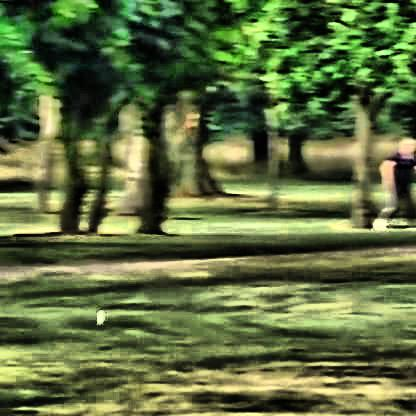golfball: (94, 308, 104, 319)
